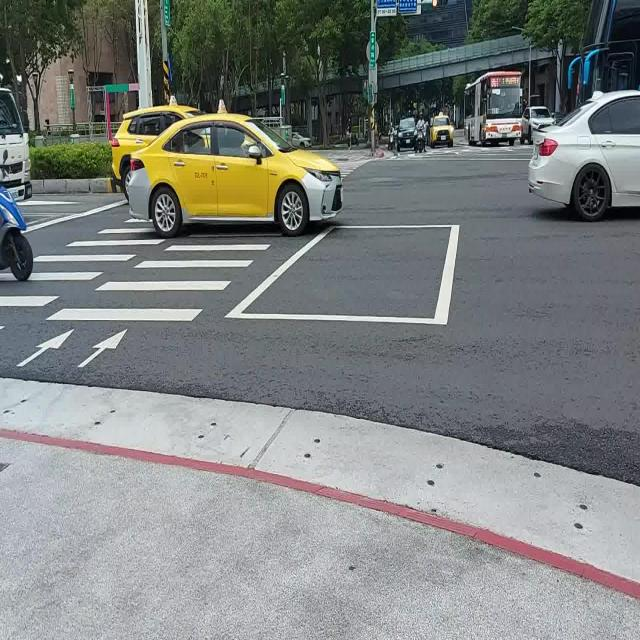bus: (568, 0, 640, 103), (465, 71, 522, 144)
car: (129, 113, 344, 238), (528, 91, 640, 220), (111, 104, 199, 196), (521, 107, 555, 144), (430, 113, 454, 148), (396, 118, 416, 150)
crosswalk: (37, 239, 276, 325), (0, 211, 167, 311)
motocycle: (0, 184, 32, 280)
trunk: (0, 87, 31, 200)
